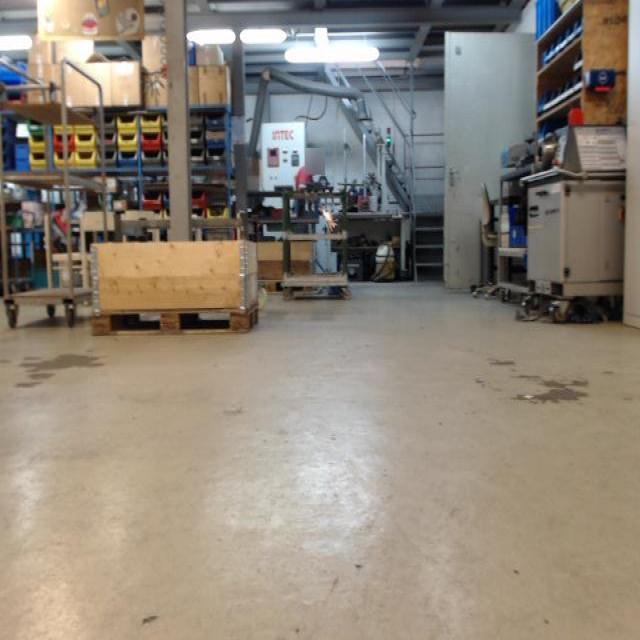pallet: (88, 299, 260, 336), (255, 279, 318, 297)
